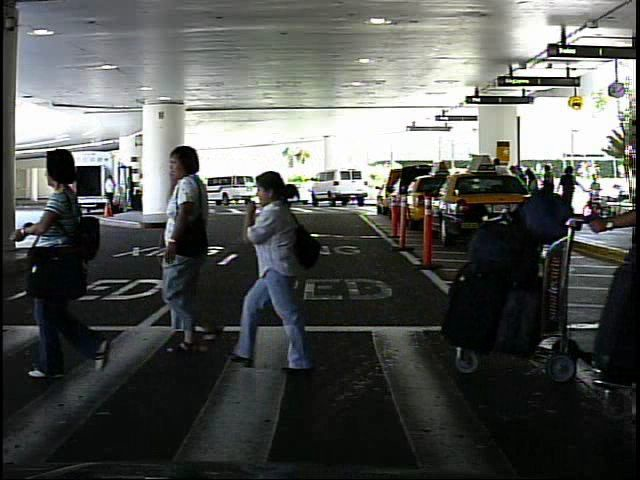person: (20, 134, 116, 382), (225, 159, 322, 381), (149, 138, 238, 360), (100, 172, 119, 222), (586, 172, 606, 218), (259, 178, 270, 204)
